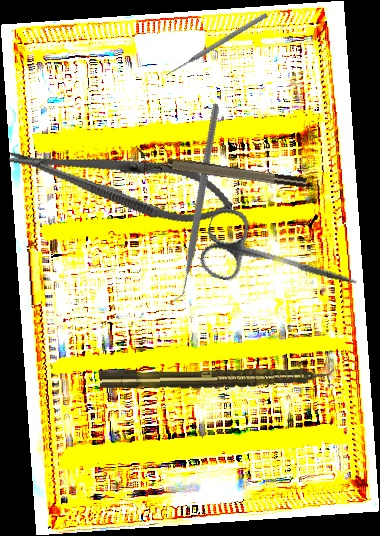Chopper: (105, 102, 281, 306)
Fixation Ring: (133, 148, 308, 198)
Handpiece: (99, 364, 335, 391)
Iris Scissors: (196, 204, 367, 314)
Needle Holder: (3, 127, 239, 235)
Pusher: (165, 11, 269, 78)
